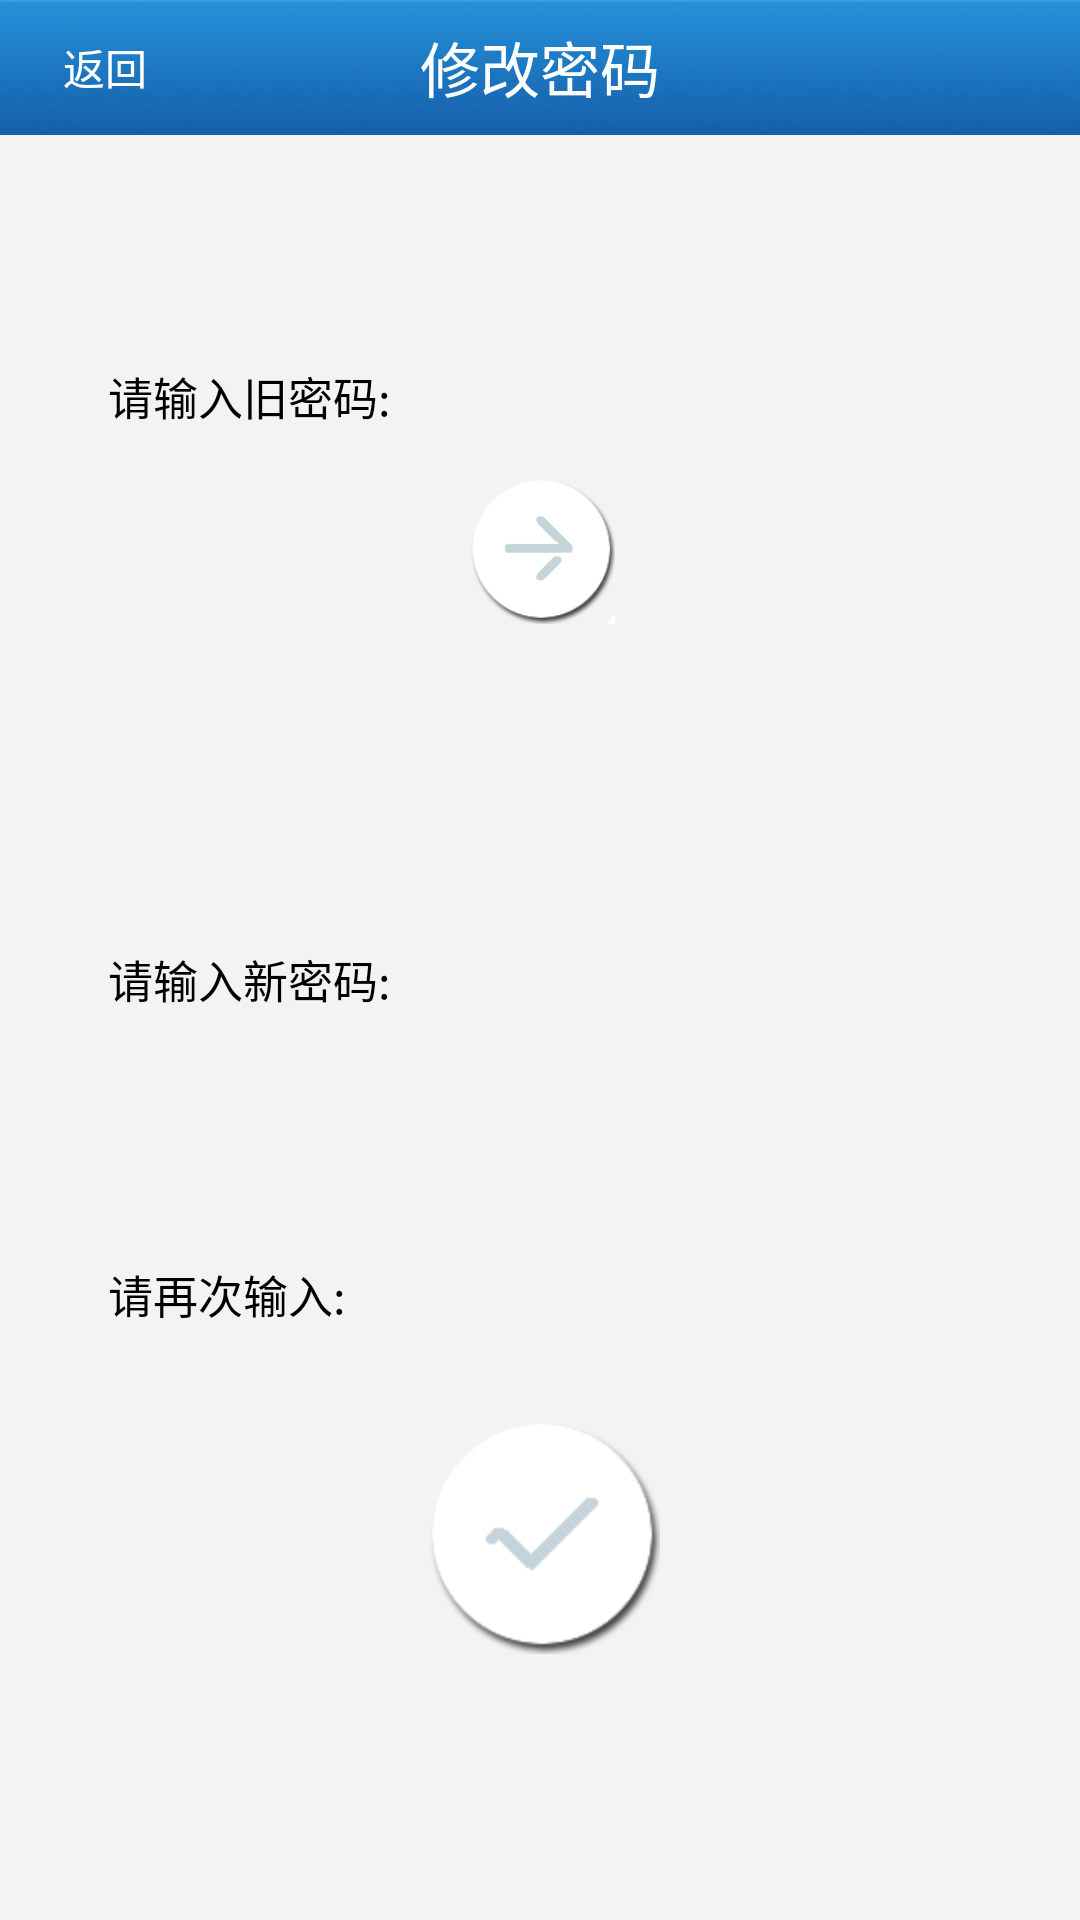

Icons on this 1080w x 1920h Android screen, each with its box as (x1, y1, x2, y2):
tabs confirm: (431, 1424, 660, 1654)
tabs next: (472, 480, 615, 624)
